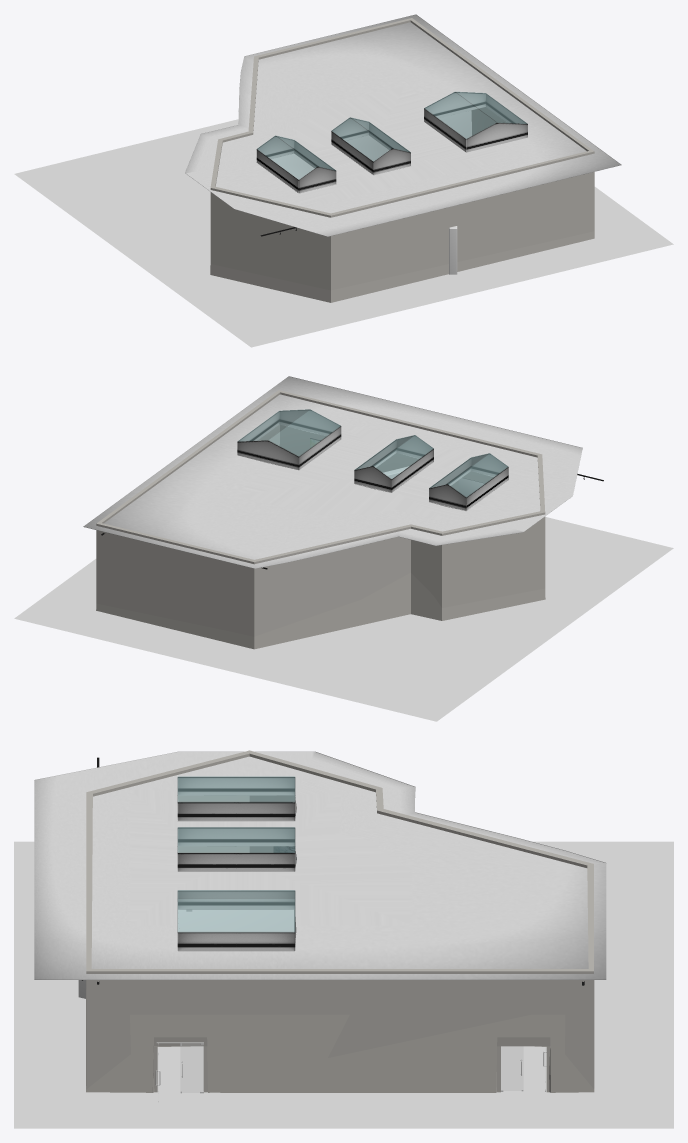
File: New_artgallery.fbx
The picture shows the model from 3 angles, top to bottom: view 1: azimuth 30°, elevation 25°; view 2: azimuth 150°, elevation 25°; view 3: azimuth 270°, elevation 25°; orthographic projection. The views are drawn at different scales.
Visible parts, largest first — view 1: ceiling, Floor, Wall.001, Cube3; view 2: ceiling, Wall.001, Floor; view 3: ceiling, Wall.001, Floor, Glass Door.015_Glass_0, Glass Door.015_Glass_0.001.
Part boxes in pixels (box(x1,y1,x2,y2)): ceiling: box(185, 14, 621, 236); Floor: box(14, 119, 673, 347); Wall.001: box(210, 18, 594, 302); Cube3: box(345, 110, 471, 161); ceiling: box(83, 376, 582, 568); Wall.001: box(96, 390, 545, 649); Floor: box(14, 517, 673, 721); ceiling: box(34, 751, 606, 979); Wall.001: box(86, 750, 594, 1092); Floor: box(14, 841, 673, 1128); Glass Door.015_Glass_0: box(180, 1043, 203, 1093); Glass Door.015_Glass_0.001: box(501, 1046, 523, 1091).
Size of the model in its own units: 7118 by 1890 by 6918.
